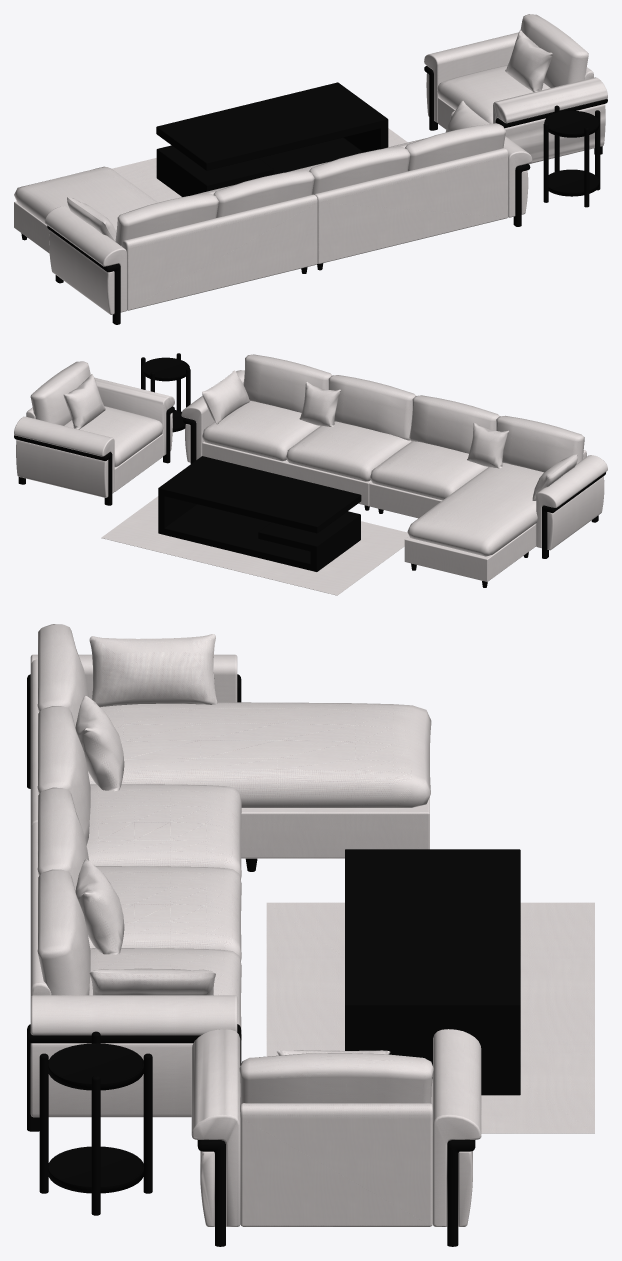
Rendered from Couch-Complete-Set.glb.
The picture shows the model from 3 angles, top to bottom: view 1: azimuth 30°, elevation 25°; view 2: azimuth 150°, elevation 25°; view 3: azimuth 270°, elevation 25°; orthographic projection. The views are drawn at different scales.
Visible parts, largest first — view 1: Sofa, Table, SingleSofa, Object_Black_0, Plane; view 2: Sofa, Table, SingleSofa, Plane, Object_Black_0; view 3: Sofa, SingleSofa, Table, Plane, Object_Black_0.
Boxes of the visible parts, <box> form: Sofa: <box>14,100,532,324</box>; Table: <box>156,82,388,196</box>; SingleSofa: <box>424,14,607,163</box>; Object_Black_0: <box>543,105,600,207</box>; Plane: <box>112,128,407,202</box>; Sofa: <box>181,354,607,587</box>; Table: <box>158,456,361,571</box>; SingleSofa: <box>14,361,174,505</box>; Plane: <box>101,496,408,595</box>; Object_Black_0: <box>141,353,190,432</box>; Sofa: <box>27,624,431,1131</box>; SingleSofa: <box>191,1029,481,1246</box>; Table: <box>345,849,520,1095</box>; Plane: <box>266,902,594,1133</box>; Object_Black_0: <box>39,1031,152,1215</box>.
Size of the model in its own units: 177 by 31.15 by 89.76.
2 materials, 1 textured.
